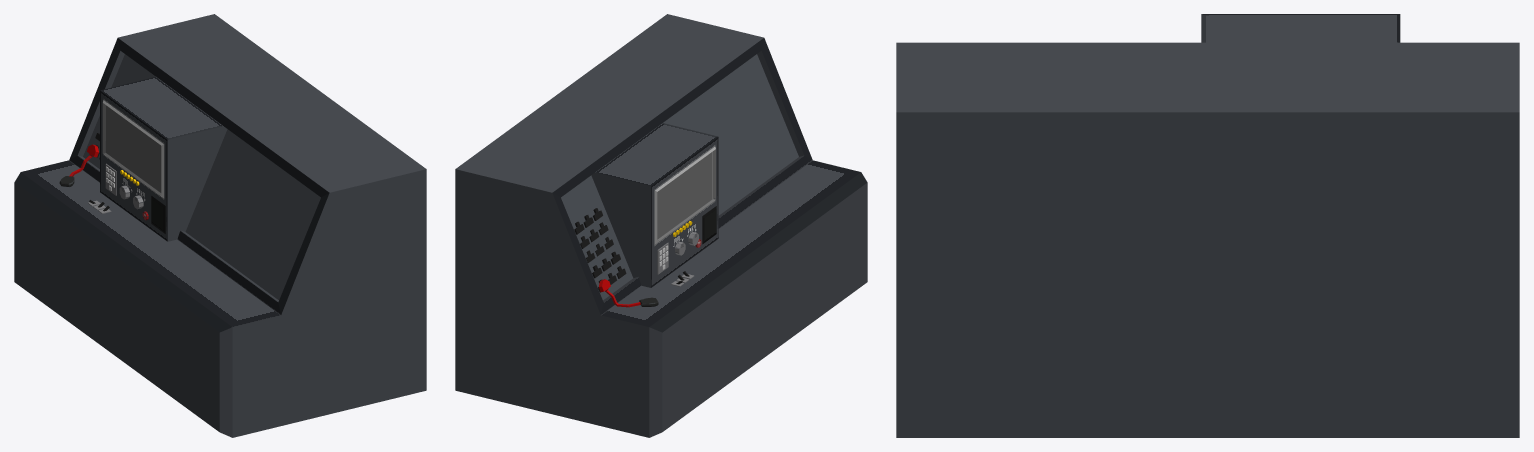
The model's file is ShipRadioBig.glb.
3 views of the same model, side by side, from view 1: azimuth 30°, elevation 25°; view 2: azimuth 150°, elevation 25°; view 3: azimuth 270°, elevation 25° (orthographic). The views are drawn at different scales.
Visible parts, largest first — view 1: Floor, mesh; view 2: Floor, mesh; view 3: Floor.
Part boxes in pixels (x1,y1,x2,y2): Floor: [14, 14, 426, 437]; mesh: [151, 196, 165, 233]; Floor: [455, 14, 867, 437]; mesh: [702, 206, 716, 244]; Floor: [896, 14, 1519, 437].
Size of the model in its own units: 7.12 by 7.41 by 12.84.
Materials: 1 (1 with a texture image).
